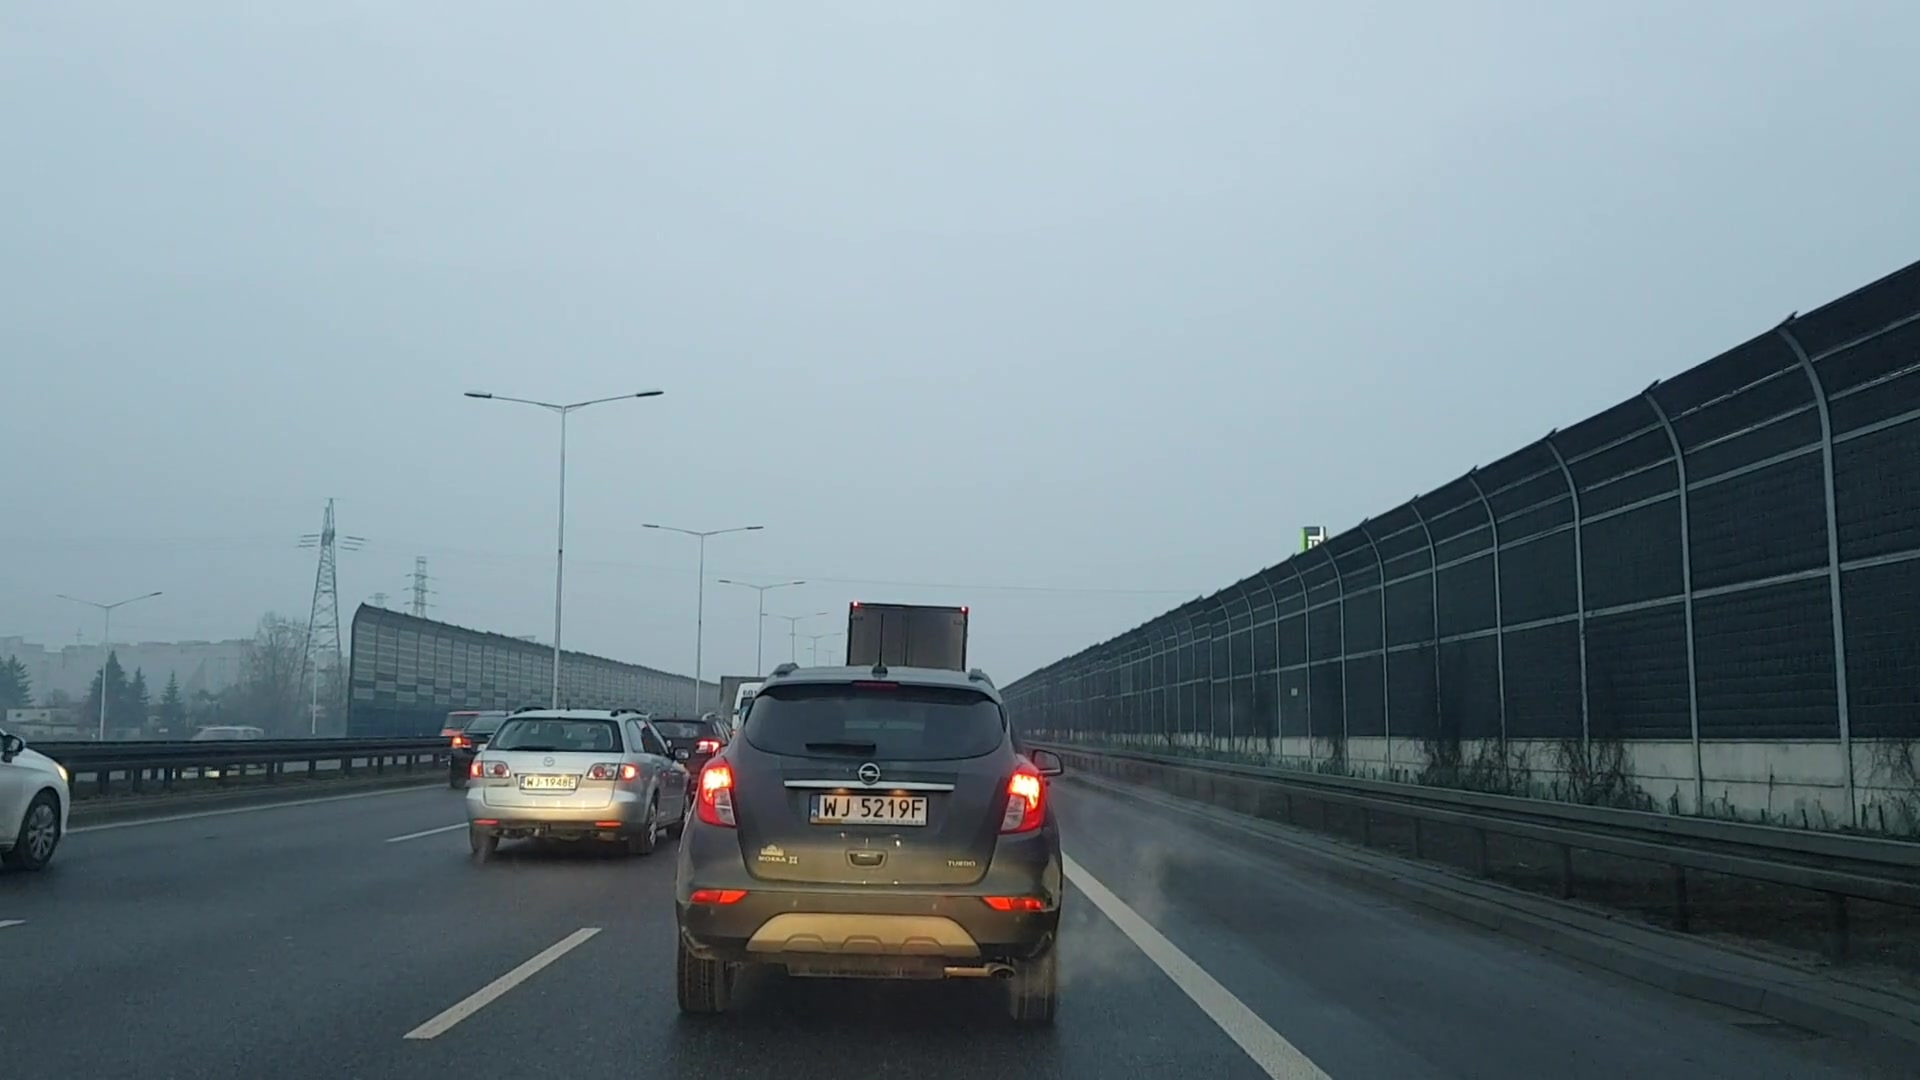car: (674, 667, 1073, 1027), (464, 703, 680, 851)
